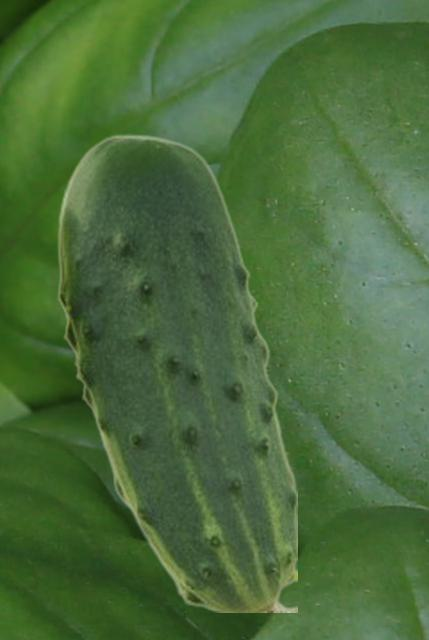cucumber: (57, 133, 296, 611)
